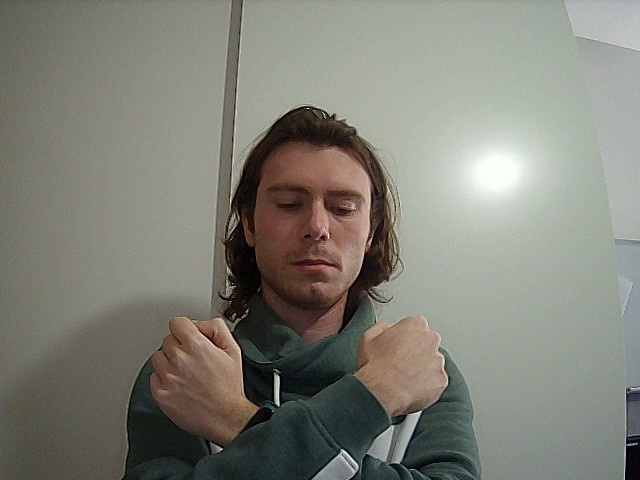del: (143, 307, 452, 480)
